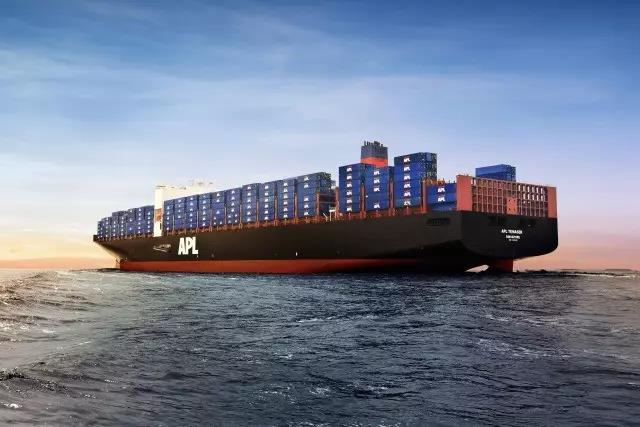Cargoship: (85, 140, 562, 280)
